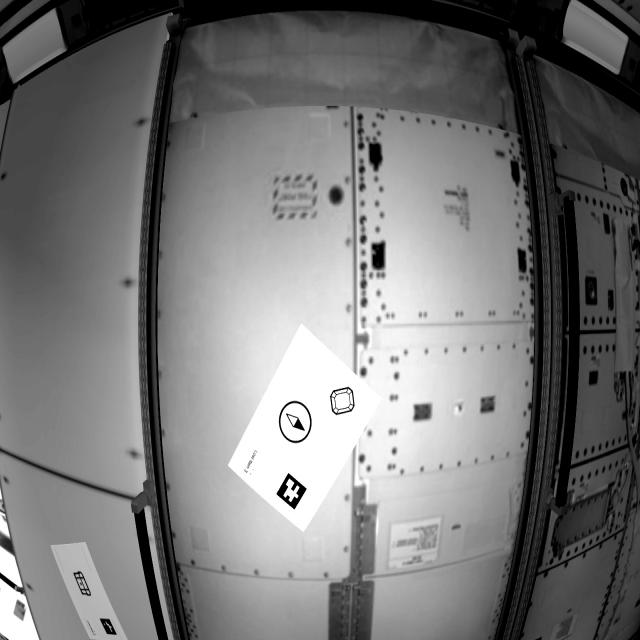compass: (275, 399, 317, 448)
emerald: (329, 379, 361, 420)
treasure_box: (70, 569, 93, 605)
